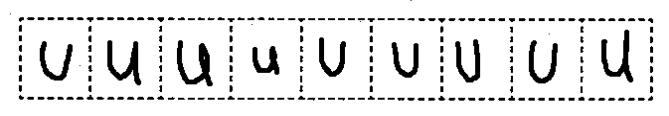U: (172, 33, 218, 90), (519, 34, 566, 89), (32, 37, 80, 88), (102, 36, 147, 90), (596, 27, 638, 84), (450, 34, 491, 88), (312, 32, 352, 84), (383, 37, 427, 83), (248, 41, 289, 77)
